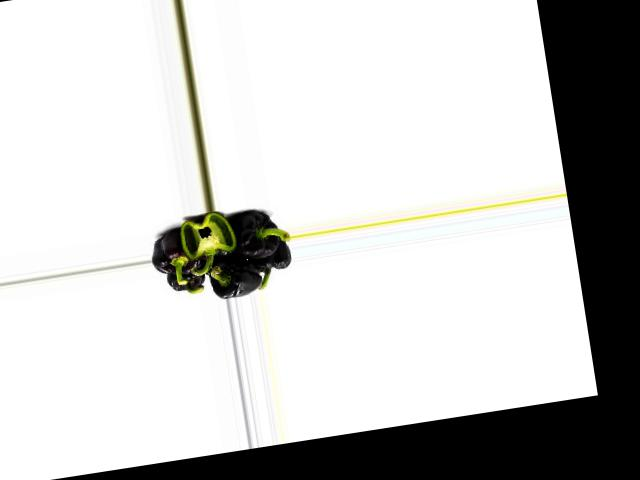bell_pepper: (149, 227, 212, 278)
